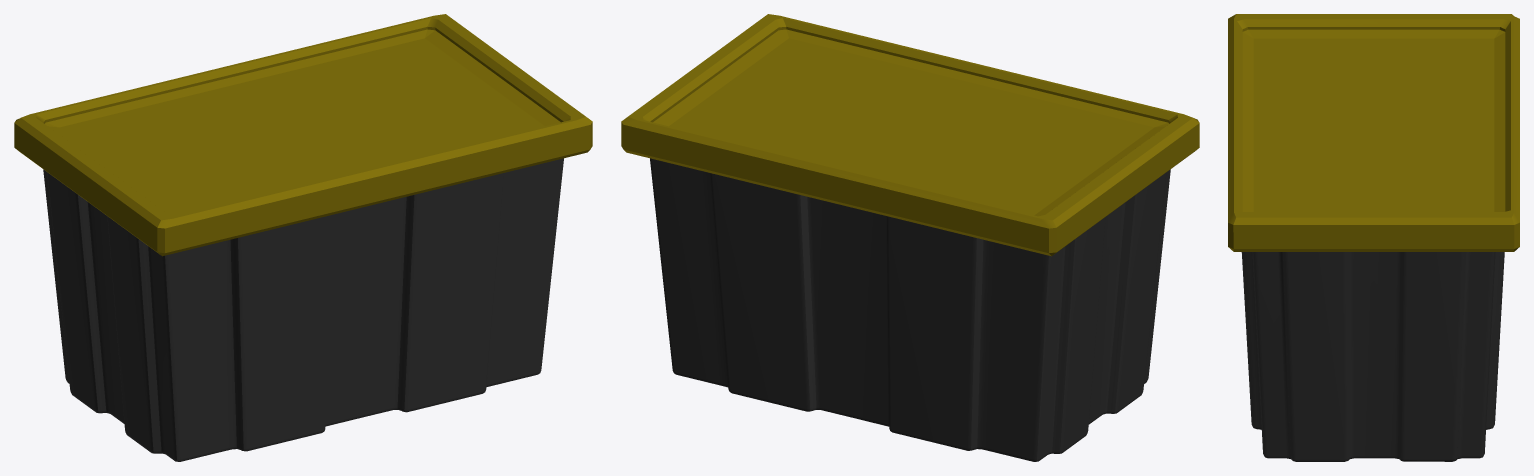
The model's file is PlasticBox.fbx.
3 views of the same model, side by side, from view 1: azimuth 30°, elevation 25°; view 2: azimuth 150°, elevation 25°; view 3: azimuth 270°, elevation 25° (orthographic).
Parts seen in each view (by area): view 1: pCube3; view 2: pCube3; view 3: pCube3.
Part boxes in pixels (<box>): pCube3: <box>14,14,592,461</box>; pCube3: <box>621,14,1199,461</box>; pCube3: <box>1228,14,1519,461</box>.
Bounding box in the file's own units: 64.37 × 36.98 × 38.09.
